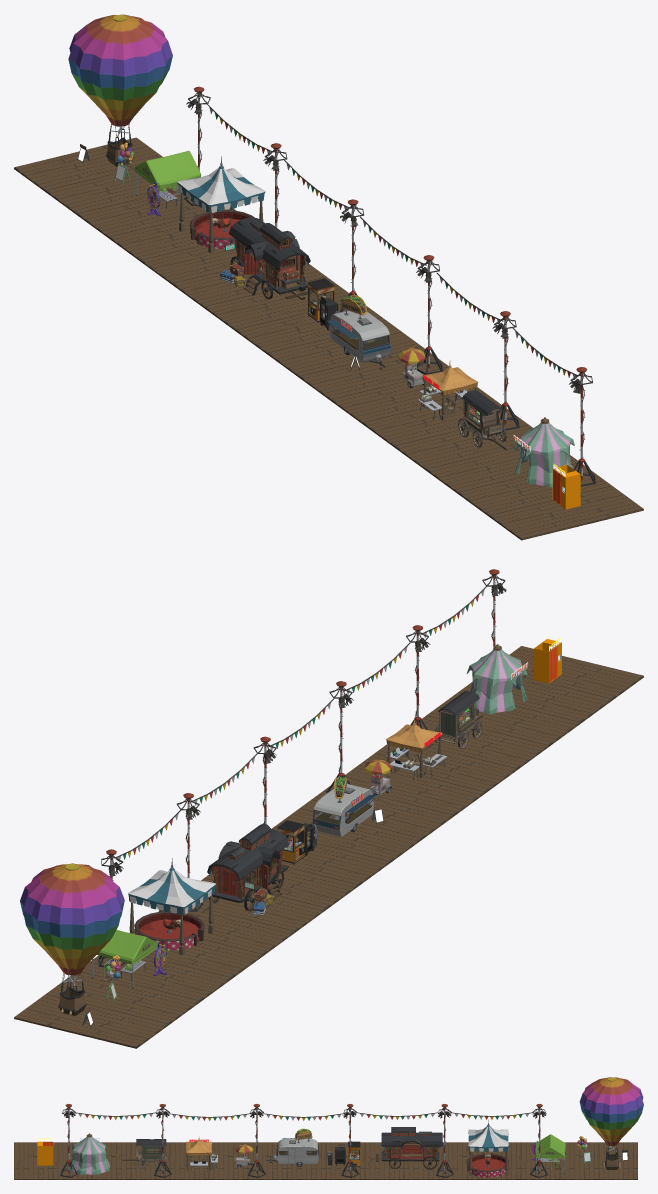
The model's file is CommercialStrip3.glb.
The picture shows the model from 3 angles, top to bottom: view 1: azimuth 30°, elevation 25°; view 2: azimuth 150°, elevation 25°; view 3: azimuth 270°, elevation 25°; orthographic projection. The views are drawn at different scales.
Visible parts, largest first — view 1: Boardwalk, SM_Prop_Hot_Air_Balloon_01.002, SM_Veh_Wagon_01, Bull_Tent, SM_Prop_Tent_01, SM_Veh_Food_Trailer_02, SM_Prop_Tent_03, SM_Veh_Wagon_Shop_01, SM_Prop_Mechanical_Bull_Pit_01, SM_Prop_Market_Stall_05, Photo_booth_Cube.031; view 2: Boardwalk, SM_Prop_Hot_Air_Balloon_01.002, SM_Veh_Wagon_01, Bull_Tent, SM_Prop_Tent_01, SM_Veh_Food_Trailer_02, SM_Prop_Mechanical_Bull_Pit_01, SM_Prop_Tent_03, SM_Veh_Wagon_Shop_01, SM_Prop_Market_Stall_05, Photo_booth_Cube.031, Claw_Machine; view 3: Boardwalk, SM_Prop_Hot_Air_Balloon_01.002, SM_Veh_Wagon_01, SM_Prop_Tent_01, Bull_Tent, SM_Veh_Food_Trailer_02, SM_Prop_Tent_03, SM_Prop_Mechanical_Bull_Pit_01, SM_Veh_Wagon_Shop_01, SM_Prop_Market_Stall_05, Photo_booth_Cube.031, SM_Prop_Bunting_Pole_01 (+13 smaller).
Boxes of the visible parts, <box> form: Boardwalk: <box>14,137,643,540</box>; SM_Prop_Hot_Air_Balloon_01.002: <box>68,14,172,166</box>; SM_Veh_Wagon_01: <box>224,217,312,299</box>; Bull_Tent: <box>177,156,265,253</box>; SM_Prop_Tent_01: <box>514,417,574,487</box>; SM_Veh_Food_Trailer_02: <box>326,310,390,369</box>; SM_Prop_Tent_03: <box>134,151,201,212</box>; SM_Veh_Wagon_Shop_01: <box>462,390,503,438</box>; SM_Prop_Mechanical_Bull_Pit_01: <box>189,210,254,244</box>; SM_Prop_Market_Stall_05: <box>422,360,478,420</box>; Photo_booth_Cube.031: <box>552,464,580,509</box>; Boardwalk: <box>14,646,643,1048</box>; SM_Prop_Hot_Air_Balloon_01.002: <box>20,863,124,1015</box>; SM_Veh_Wagon_01: <box>207,824,289,911</box>; Bull_Tent: <box>128,858,215,955</box>; SM_Prop_Tent_01: <box>466,644,527,714</box>; SM_Veh_Food_Trailer_02: <box>312,784,377,836</box>; SM_Prop_Mechanical_Bull_Pit_01: <box>134,911,204,945</box>; SM_Prop_Tent_03: <box>92,930,157,988</box>; SM_Veh_Wagon_Shop_01: <box>438,691,479,743</box>; SM_Prop_Market_Stall_05: <box>386,717,442,777</box>; Photo_booth_Cube.031: <box>534,639,561,683</box>; Claw_Machine: <box>277,820,304,864</box>; Boardwalk: <box>14,1142,637,1179</box>; SM_Prop_Hot_Air_Balloon_01.002: <box>579,1077,643,1169</box>; SM_Veh_Wagon_01: <box>368,1127,442,1169</box>; SM_Prop_Tent_01: <box>69,1133,110,1174</box>; Bull_Tent: <box>468,1119,508,1175</box>; SM_Veh_Food_Trailer_02: <box>266,1138,319,1163</box>; SM_Prop_Tent_03: <box>535,1134,565,1173</box>; SM_Prop_Mechanical_Bull_Pit_01: <box>466,1153,509,1177</box>; SM_Veh_Wagon_Shop_01: <box>135,1139,166,1161</box>; SM_Prop_Market_Stall_05: <box>186,1137,211,1171</box>; Photo_booth_Cube.031: <box>37,1141,53,1165</box>; SM_Prop_Bunting_Pole_01: <box>341,1104,359,1177</box>.
Bounding box in the file's own units: 11.48 × 12.23 × 77.9.
Materials: 31 (17 with a texture image).
